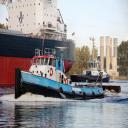tugboat: (15, 46, 107, 106)
